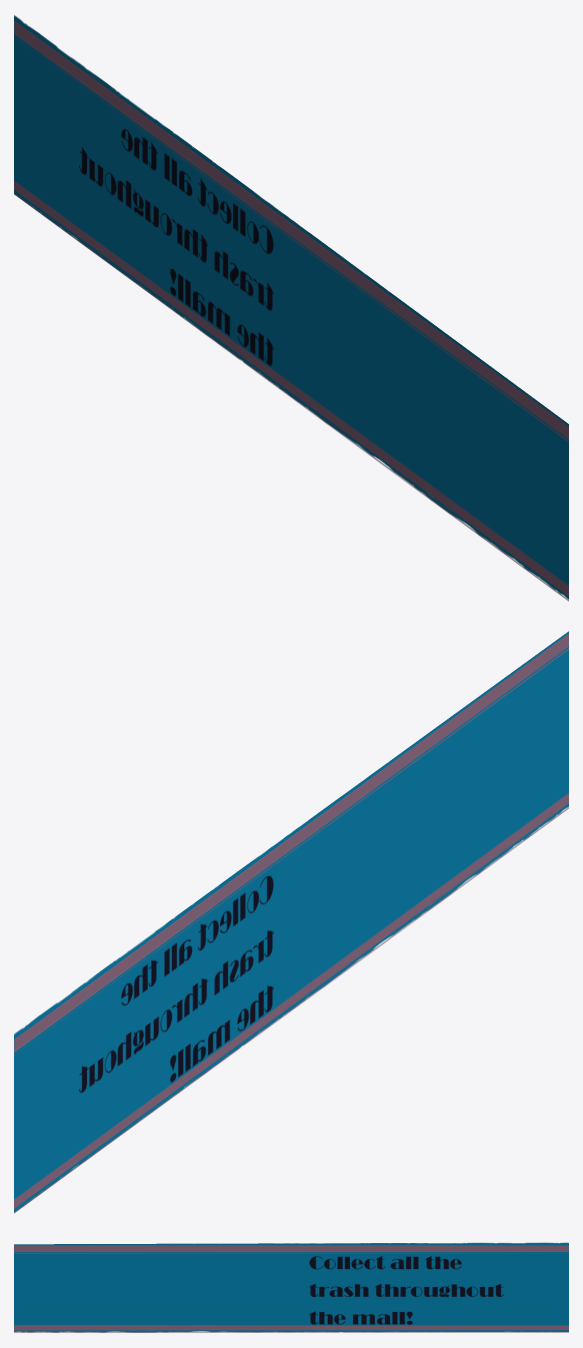
Rendered from Rec1.gltf.
3 views of the same model, one above another, from view 1: azimuth 30°, elevation 25°; view 2: azimuth 150°, elevation 25°; view 3: azimuth 270°, elevation 25° (orthographic). The views are drawn at different scales.
Visible parts, largest first — view 1: Rec1; view 2: Rec1; view 3: Rec1.
Part boxes in pixels (x1,y1,x2,y2): Rec1: (14,15,568,601); Rec1: (14,631,568,1213); Rec1: (14,1242,568,1332).
Size of the model in its own units: 3.5e-08 by 0.181 by 1.
1 material, 1 textured.
